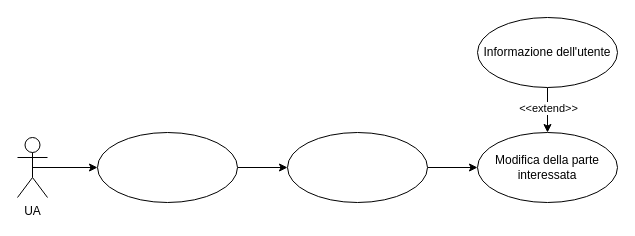
Image size: 635x236. Some labels were removed from this diagram. The box of each missing label's shape, as (x1, y1, x2, y2) in pixels:
Accesso al proprio profilo: (286, 132, 428, 202)
Accesso con credenziali: (96, 132, 238, 202)
